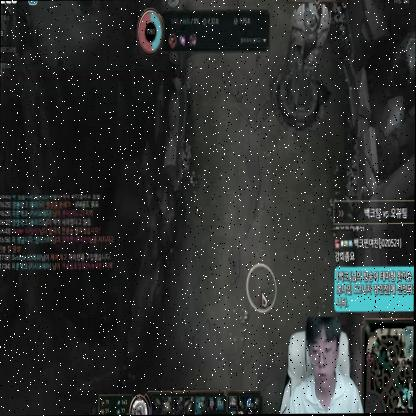streamer: (275, 315, 364, 414)
